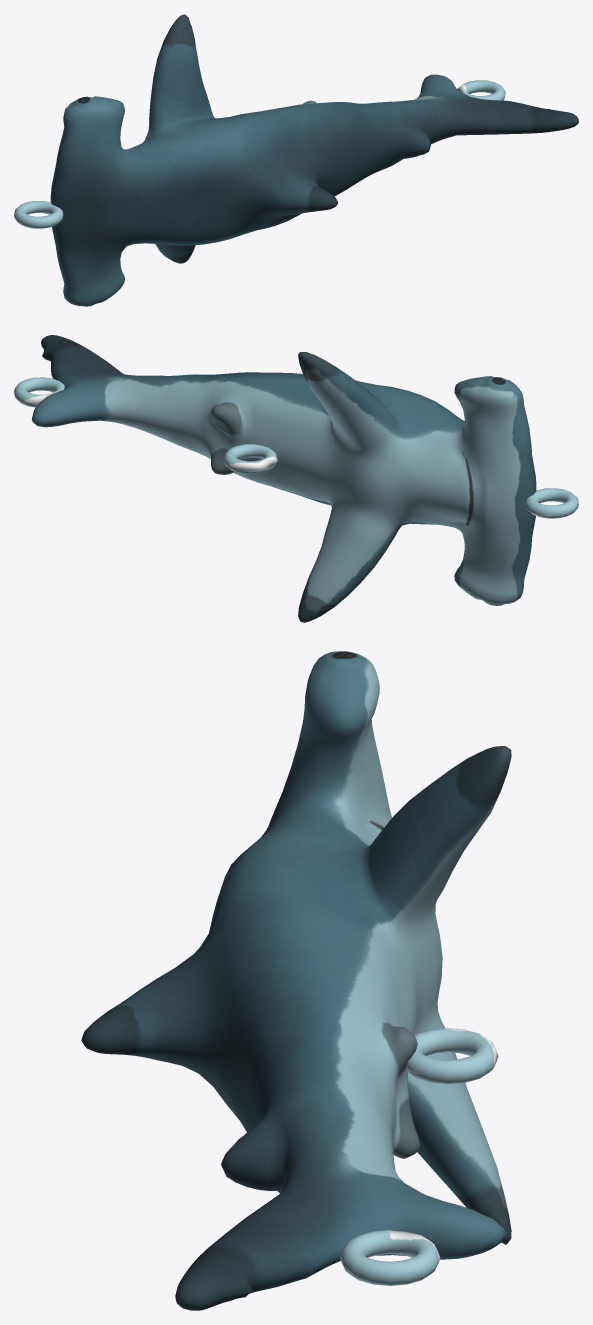
The model's file is 21938_Hammerhead_Shark_v1.obj.
3 views of the same model, one above another, from view 1: azimuth 30°, elevation 25°; view 2: azimuth 150°, elevation 25°; view 3: azimuth 270°, elevation 25° (orthographic). The views are drawn at different scales.
Parts seen in each view (by area): view 1: 21938_Hammerhead_Shark_v1; view 2: 21938_Hammerhead_Shark_v1; view 3: 21938_Hammerhead_Shark_v1.
Boxes of the visible parts, left/top/right/bottom form: 21938_Hammerhead_Shark_v1: left=14, top=14, right=578, bottom=306; 21938_Hammerhead_Shark_v1: left=14, top=335, right=578, bottom=622; 21938_Hammerhead_Shark_v1: left=81, top=651, right=511, bottom=1310.
Size of the model in its own units: 9.17 by 4.14 by 3.26.
1 material, 1 textured.
